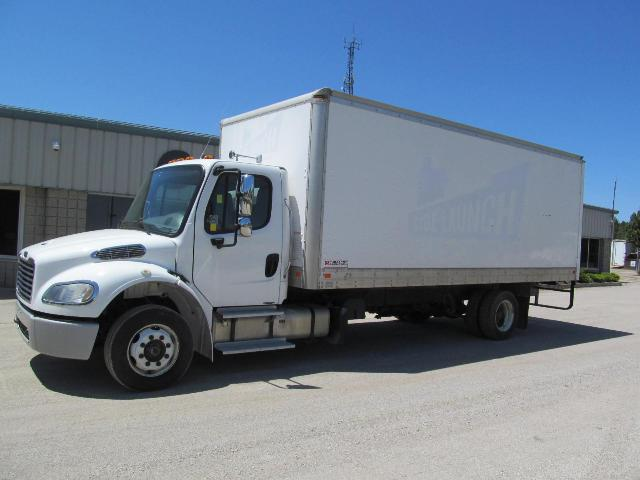truck: (0, 92, 605, 367)
